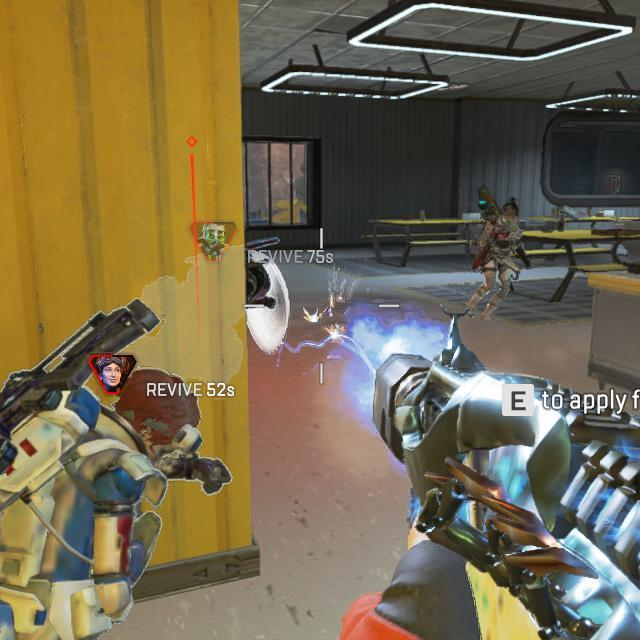avatar: (0, 367, 208, 640), (467, 196, 523, 320)
